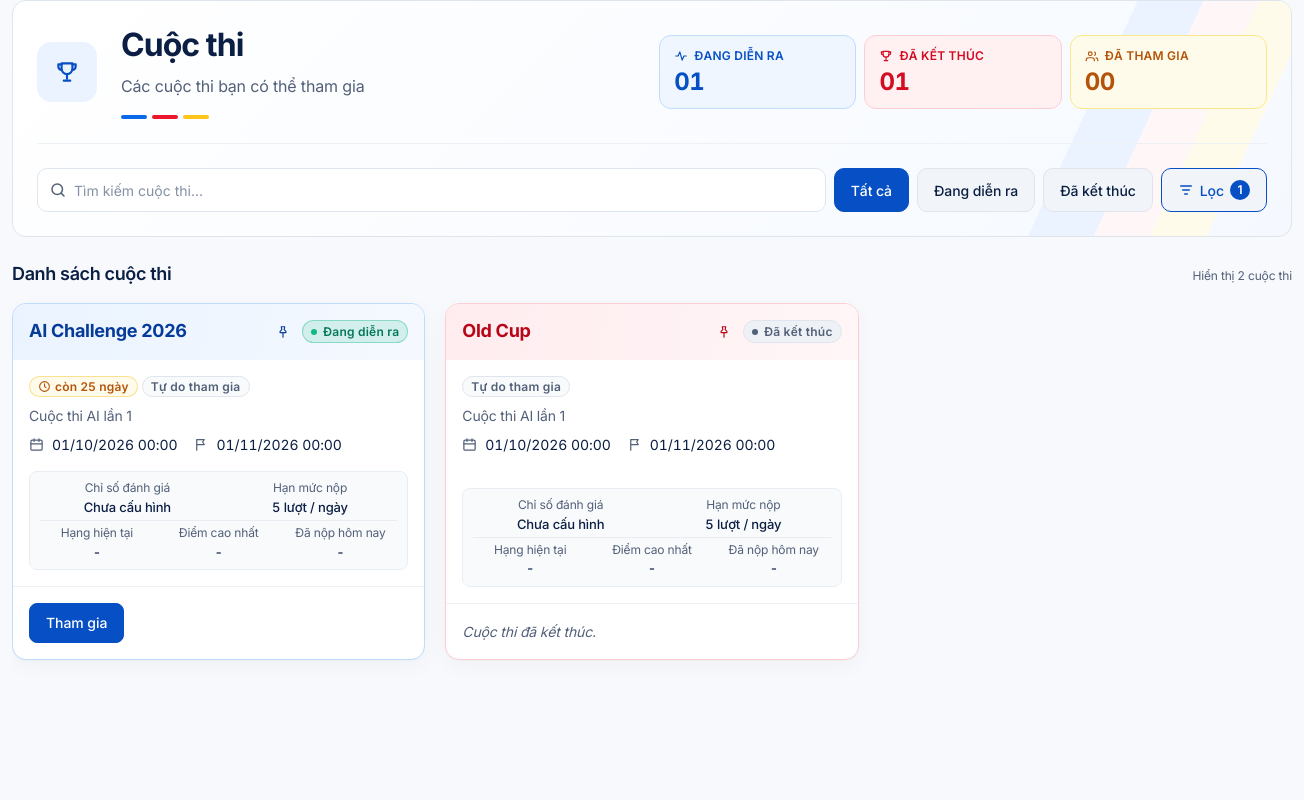
bộ lọc không khớp: báo không tìm thấy, khác hẳn khi chưa có cuộc thi nào
expect the heading "AI Challenge 2026" is shown: met, box [29,320,187,341]
In the search field labelled "Tìm kiếm cuộc thi": (431, 190) [37,168,826,212], type "khong-ton-tai"
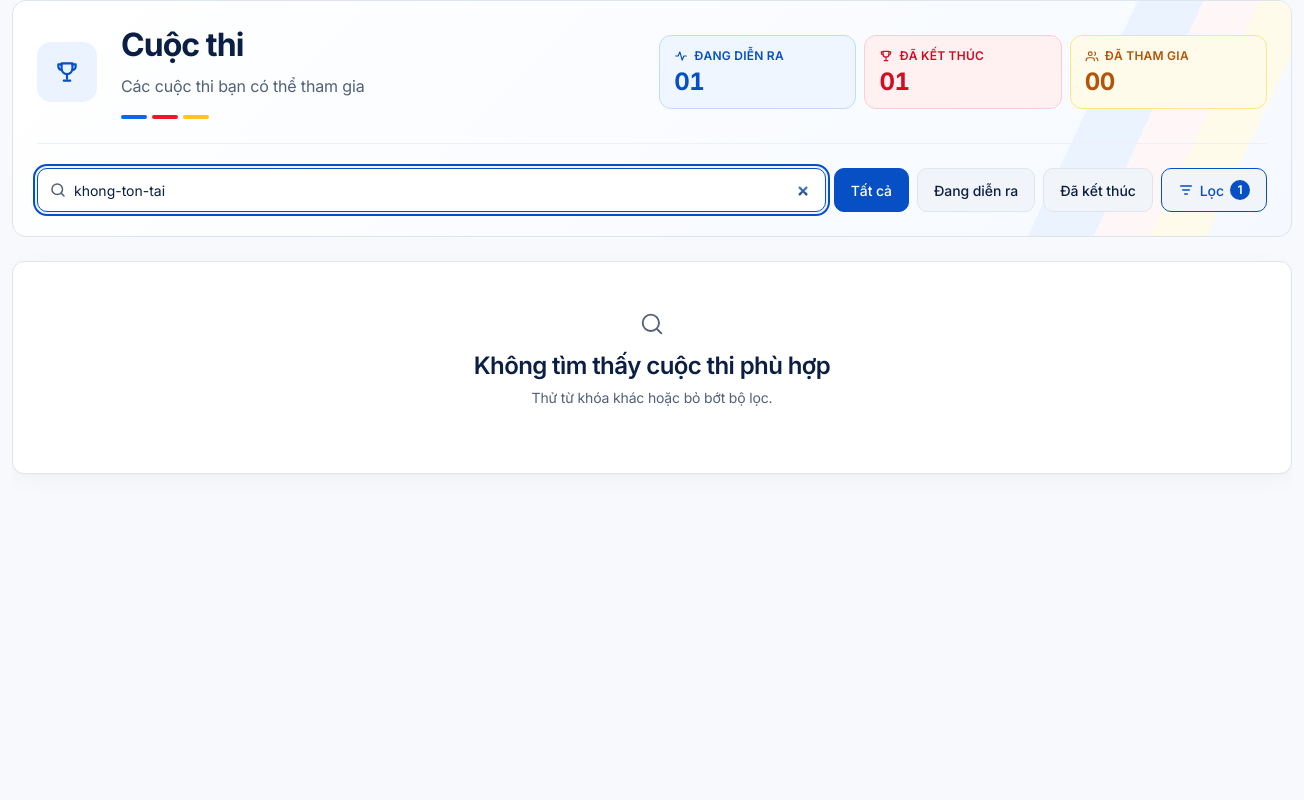
expect the heading "Không tìm thấy cuộc thi phù hợp" is shown: met, box [474,351,830,380]
expect the heading "Danh sách cuộc thi" is gone: met
